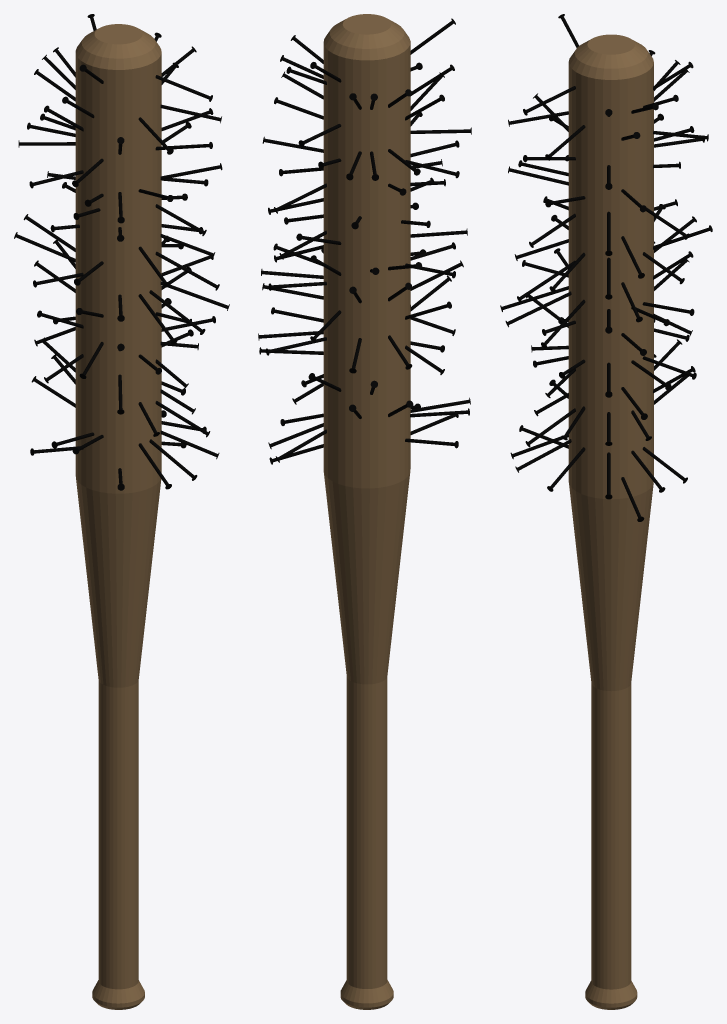
Rendered from BatAnimated.fbx.
3 views of the same model, side by side, from view 1: azimuth 30°, elevation 25°; view 2: azimuth 150°, elevation 25°; view 3: azimuth 270°, elevation 25° (orthographic). The views are drawn at different scales.
Visible parts, largest first — view 1: bat; view 2: bat; view 3: bat.
Boxes of the visible parts, box(x1,y1,x2,y2) form: bat: box(14, 14, 229, 1009); bat: box(258, 14, 471, 1009); bat: box(500, 14, 712, 1009).
Bounding box in the file's own units: 172 × 871 × 175.
